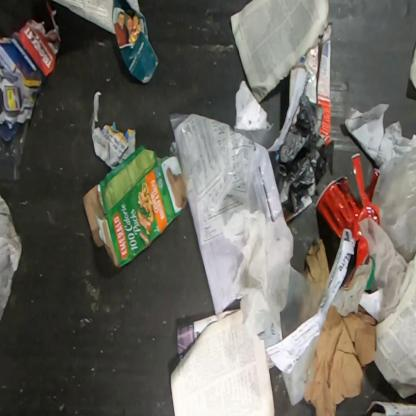cardboard: (82, 146, 186, 271), (294, 20, 332, 147)
rigid_plastic: (314, 153, 382, 266)
soft_plastic: (169, 112, 286, 315), (274, 95, 334, 219), (370, 147, 415, 265), (0, 125, 28, 192)
